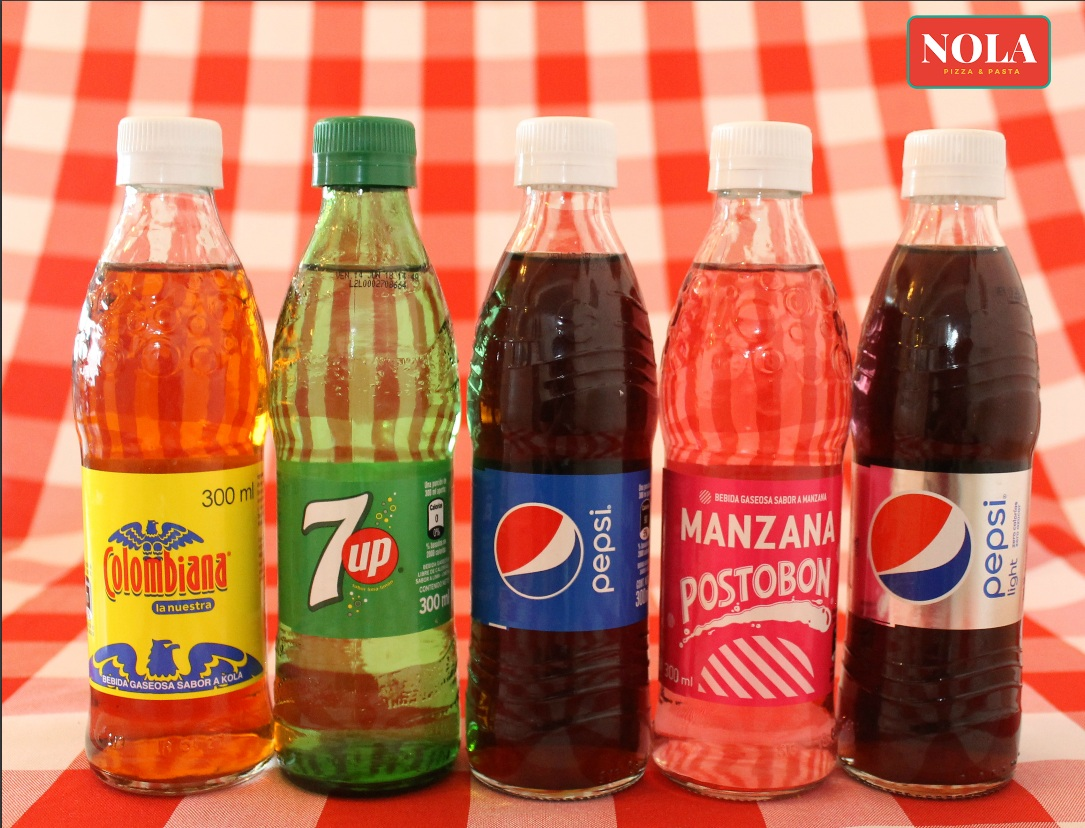botella: (72, 111, 269, 815), (273, 111, 464, 817), (474, 111, 659, 816), (855, 115, 1036, 807), (666, 113, 841, 799)
